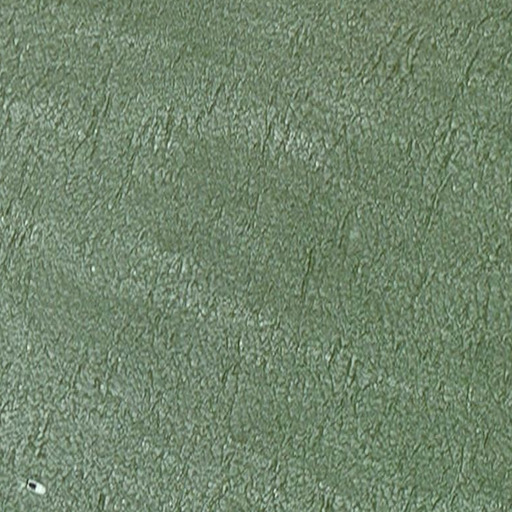ship: (24, 475, 49, 500)
